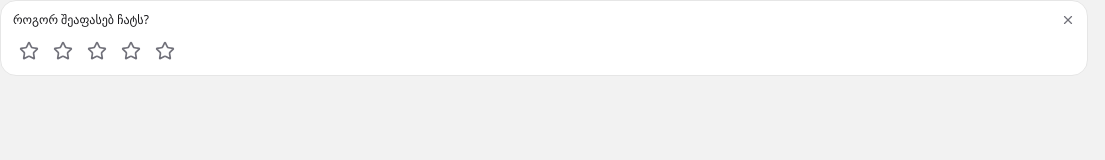
Test: ChatRating row › an RPC refusal ('invalid session') is silent: thanks shown, session done
Click the radio button named "3 ვარსკვლავი" at (97, 51), box [81,35,113,67]
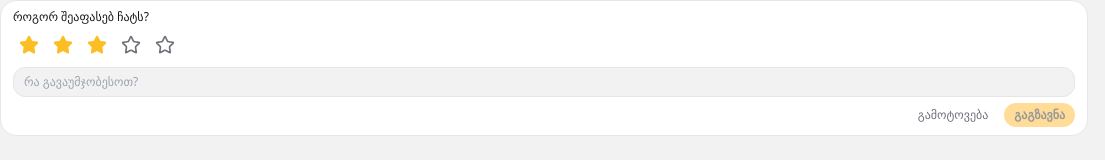
Click the button "გამოტოვება" at (953, 115), box [908,103,998,127]
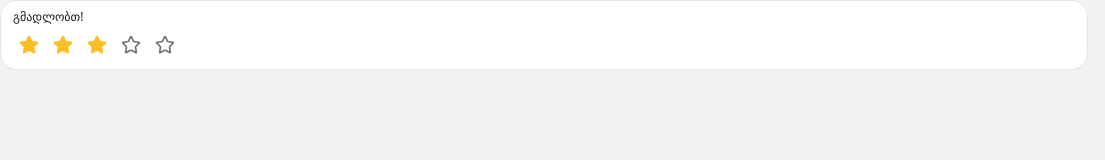
Now the text "გმადლობთ!" is shown, box [13,9,83,25]
